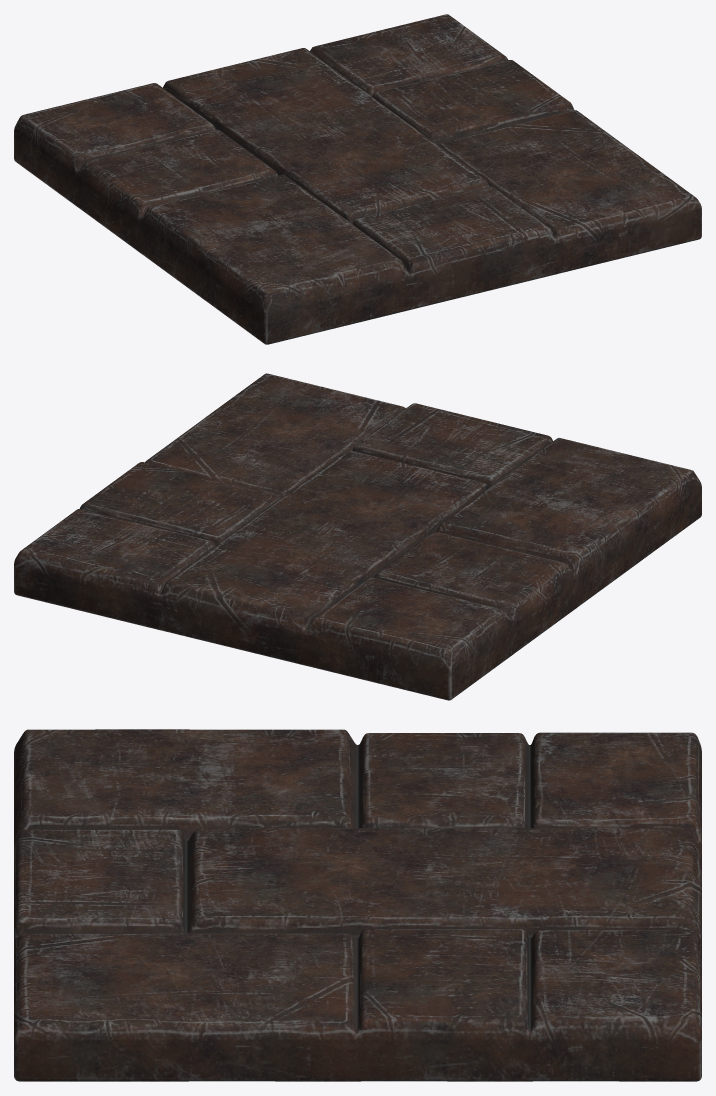
3 views of the same model, one above another, from view 1: azimuth 30°, elevation 25°; view 2: azimuth 150°, elevation 25°; view 3: azimuth 270°, elevation 25° (orthographic). The views are drawn at different scales.
Visible parts, largest first — view 1: lp_Cube.000; view 2: lp_Cube.000; view 3: lp_Cube.000.
Part boxes in pixels (x1,y1,x2,y2): lp_Cube.000: (14, 14, 701, 344); lp_Cube.000: (14, 373, 701, 700); lp_Cube.000: (14, 729, 701, 1081).
Bounding box in the file's own units: 2 × 0.2175 × 2.
Materials: 1 (1 with a texture image).
